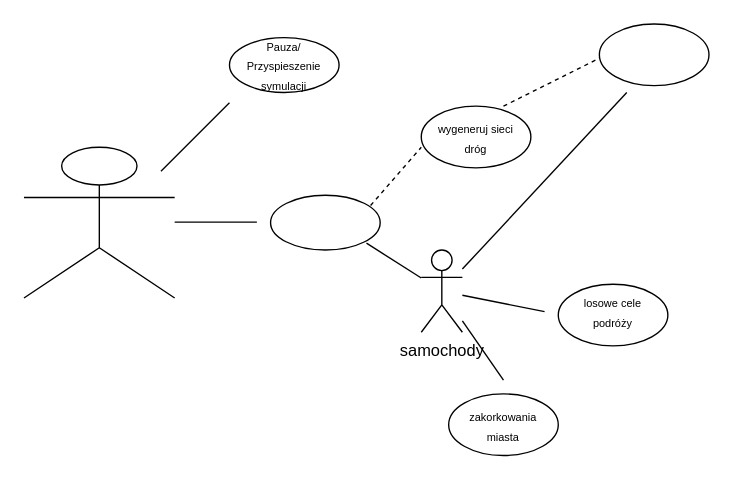
Image size: 733x480. Some labels were removed from this diagram. Here are the shapes that lost their labels. From the top down, the centre of each, then its label:
At point (653, 54): "sygnalizacja świetlna".
At point (99, 222): "Użytkownik".
At point (324, 222): "wygeneruj mapę miasta".
